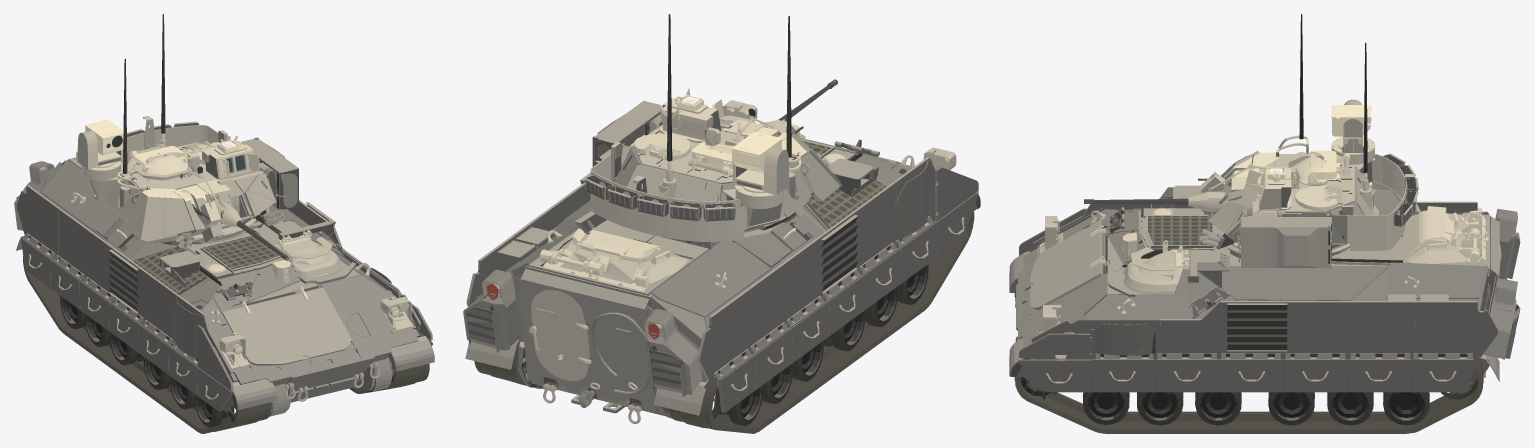
File: bradley_emission_trial.glb
3 views of the same model, side by side, from view 1: azimuth 30°, elevation 25°; view 2: azimuth 150°, elevation 25°; view 3: azimuth 270°, elevation 25° (orthographic). The views are drawn at different scales.
Visible parts, largest first — view 1: WT_@root, WT_bone_turret, WT_hatch_06, WT_track_r, WT_hatch_01, WT_roll_05, WT_hatch_02, WT_ex_decor_r_05, WT_ex_decor_l_04, WT_ex_armor_03, WT_ex_armor_r_03, WT_ex_armor_r_06 (+21 smaller); view 2: WT_@root, WT_bone_turret, WT_rear_ramp, WT_track_r, WT_hatch_04, WT_hatch_05, WT_ex_decor_r_04, WT_ex_decor_l_09, WT_roll_05, WT_ex_armor_03, WT_ex_armor_r_06, WT_ex_armor_r_04 (+21 smaller); view 3: WT_@root, WT_bone_turret, WT_track_l, WT_roll_05, WT_hatch_06, WT_hatch_05, WT_hatch_01, WT_ex_armor_l_03, WT_ex_armor_l_04, WT_ex_armor_l_05, WT_ex_armor_l_06, WT_ex_armor_l_02 (+21 smaller).
Part boxes in pixels (x1,y1,x2,y2): WT_@root: (17,157,432,416); WT_bone_turret: (81,116,276,242); WT_hatch_06: (222,286,351,365); WT_track_r: (23,256,271,433); WT_hatch_01: (275,230,342,279); WT_roll_05: (241,137,298,209); WT_hatch_02: (130,143,188,174); WT_ex_decor_r_05: (222,379,276,412); WT_ex_decor_l_04: (388,336,434,371); WT_ex_armor_03: (77,126,122,169); WT_ex_armor_r_03: (138,324,169,374); WT_ex_armor_r_06: (50,259,81,309); WT_@root: (466,121,978,418); WT_bone_turret: (584,98,842,241); WT_rear_ramp: (518,268,657,413); WT_track_r: (669,212,974,433); WT_hatch_04: (529,290,591,380); WT_hatch_05: (551,228,687,284); WT_ex_decor_r_04: (644,305,707,396); WT_ex_decor_l_09: (463,269,523,352); WT_roll_05: (592,100,662,166); WT_ex_armor_03: (733,141,788,195); WT_ex_armor_r_06: (754,327,792,389); WT_ex_armor_r_04: (826,274,865,336); WT_@root: (1015,185,1497,377); WT_bone_turret: (1208,135,1418,255); WT_track_l: (1014,357,1483,433); WT_roll_05: (1241,209,1331,268); WT_hatch_06: (1030,220,1105,310); WT_hatch_05: (1406,206,1479,263); WT_hatch_01: (1123,240,1184,293); WT_ex_armor_l_03: (1155,359,1219,392); WT_ex_armor_l_04: (1219,359,1283,392); WT_ex_armor_l_05: (1284,359,1347,392); WT_ex_armor_l_06: (1348,359,1411,392); WT_ex_armor_l_02: (1092,359,1155,392).
Bounding box in the file's own units: 3.43 × 4.77 × 6.58.
Materials: 36 (1 with a texture image).
